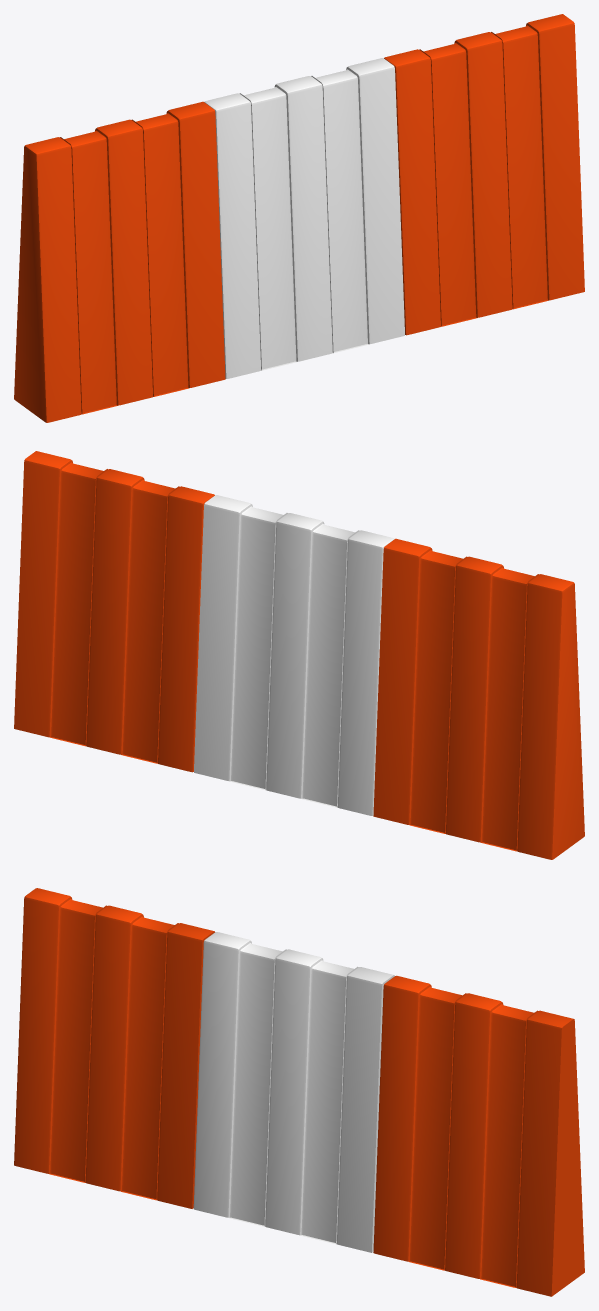
The model's file is Obstacle1.fbx.
The picture shows the model from 3 angles, top to bottom: view 1: azimuth 30°, elevation 25°; view 2: azimuth 150°, elevation 25°; view 3: azimuth 330°, elevation 25°; orthographic projection.
Visible parts, largest first — view 1: Box004, Box006, Box005; view 2: Box004, Box006, Box005; view 3: Box006, Box005, Box004.
Part boxes in pixels (x1,y1,x2,y2): Box004: (14,101,225,422); Box006: (384,14,584,335); Box005: (204,58,404,378); Box004: (373,538,584,859); Box006: (14,451,214,772); Box005: (194,495,394,815); Box006: (373,975,584,1296); Box005: (193,932,394,1252); Box004: (14,888,214,1208).
Size of the model in its own units: 110 by 11.81 by 51.23.
